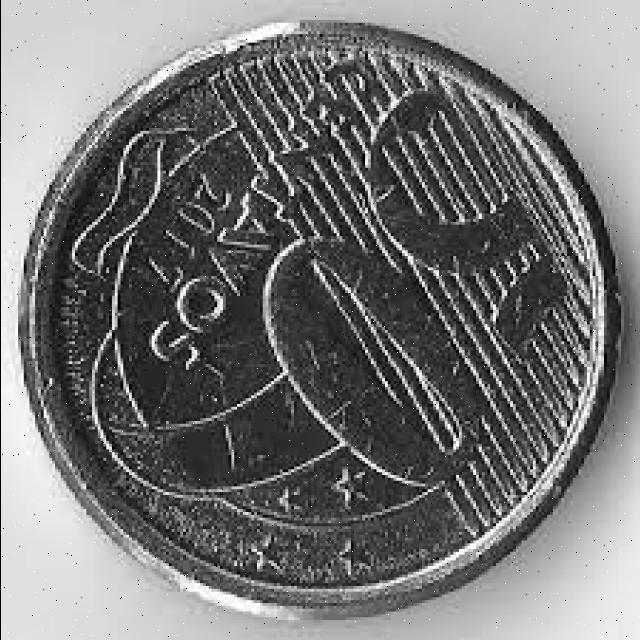50 cent: (20, 40, 626, 620)
